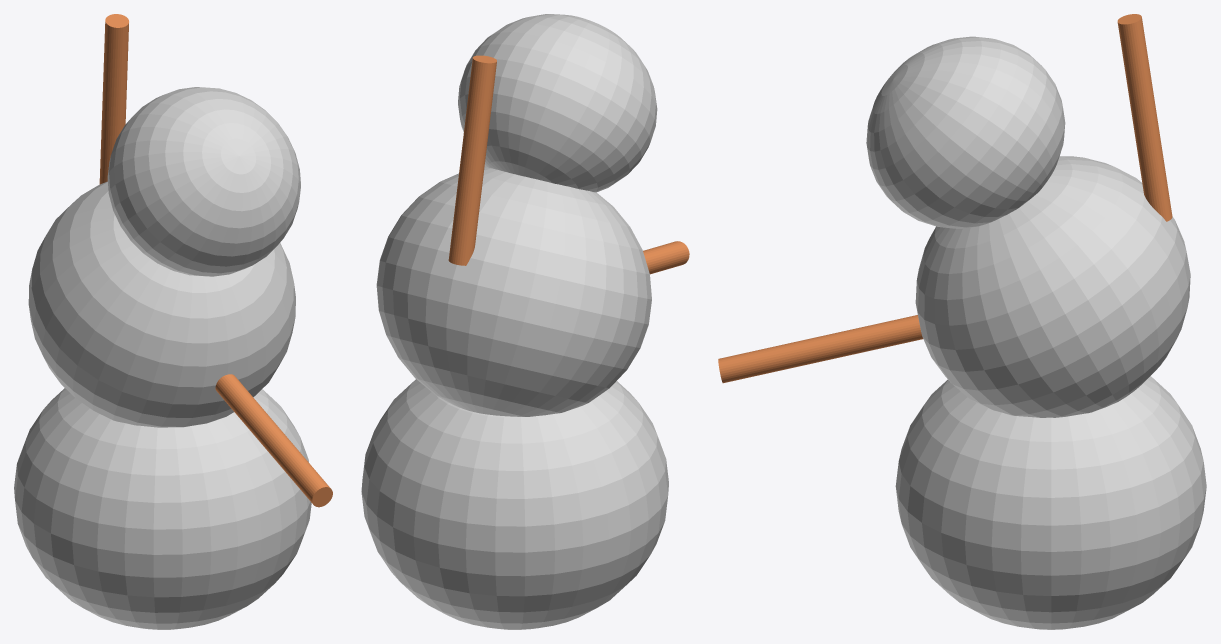
File: snowman.glb
The picture shows the model from 3 angles, left to right: view 1: azimuth 30°, elevation 25°; view 2: azimuth 150°, elevation 25°; view 3: azimuth 270°, elevation 25°; orthographic projection. The views are drawn at different scales.
Parts seen in each view (by area): view 1: Sphere, Sphere.001, Sphere.002, Cylinder.001, Cylinder.002; view 2: Sphere, Sphere.001, Sphere.002, Cylinder.002, Cylinder.001; view 3: Sphere, Sphere.001, Sphere.002, Cylinder.001, Cylinder.002.
Part boxes in pixels (bbox=[...]): Sphere: bbox=[14, 388, 311, 629]; Sphere.001: bbox=[28, 181, 295, 427]; Sphere.002: bbox=[107, 87, 300, 276]; Cylinder.001: bbox=[215, 374, 332, 507]; Cylinder.002: bbox=[99, 14, 128, 184]; Sphere: bbox=[361, 379, 668, 629]; Sphere.001: bbox=[376, 166, 651, 416]; Sphere.002: bbox=[458, 14, 657, 192]; Cylinder.002: bbox=[448, 55, 496, 265]; Cylinder.001: bbox=[643, 241, 689, 274]; Sphere: bbox=[895, 376, 1206, 629]; Sphere.001: bbox=[915, 156, 1190, 417]; Sphere.002: bbox=[866, 36, 1065, 228]; Cylinder.001: bbox=[718, 315, 923, 383]; Cylinder.002: bbox=[1117, 14, 1172, 221].
Size of the model in its own units: 2 by 4.21 by 3.14.
